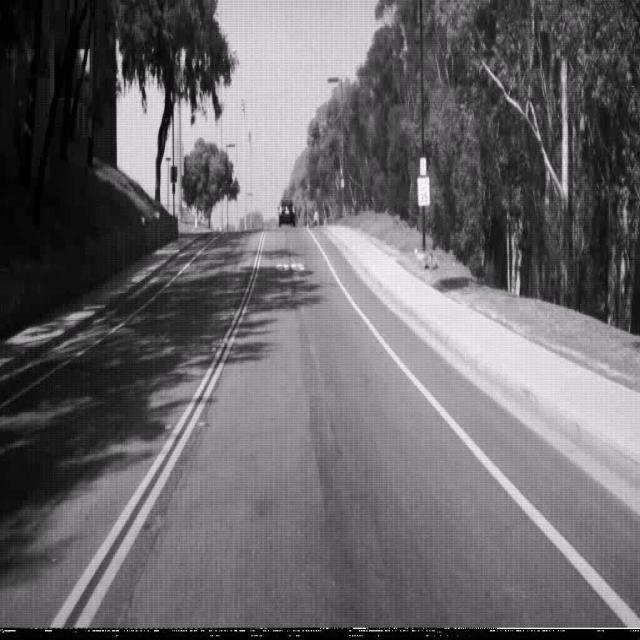speedLimit35: (417, 177, 430, 206)
